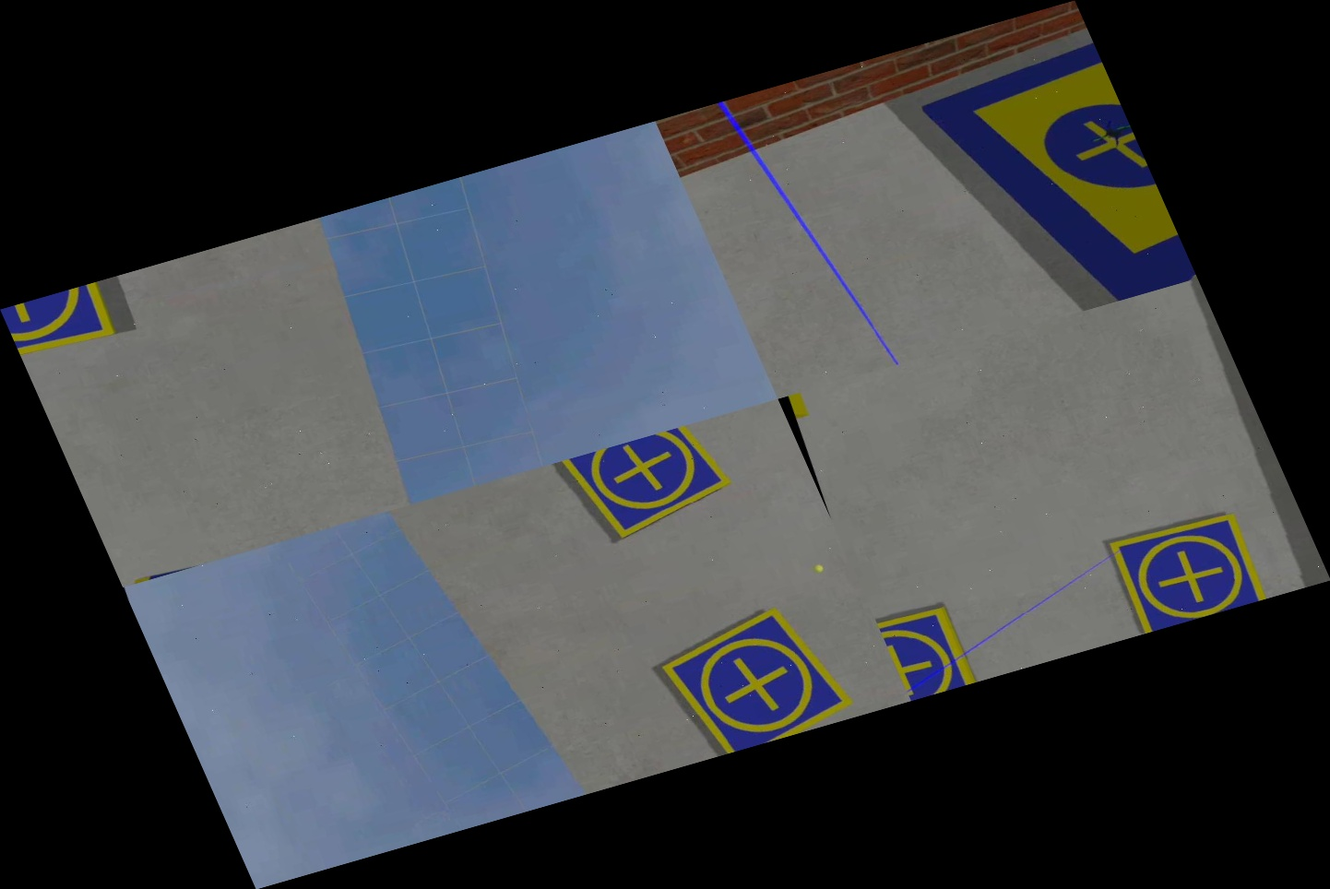large_base: (888, 29, 1197, 335)
small_base: (635, 590, 866, 764), (551, 417, 755, 553), (1094, 504, 1277, 635), (0, 278, 132, 362), (876, 601, 982, 700)
